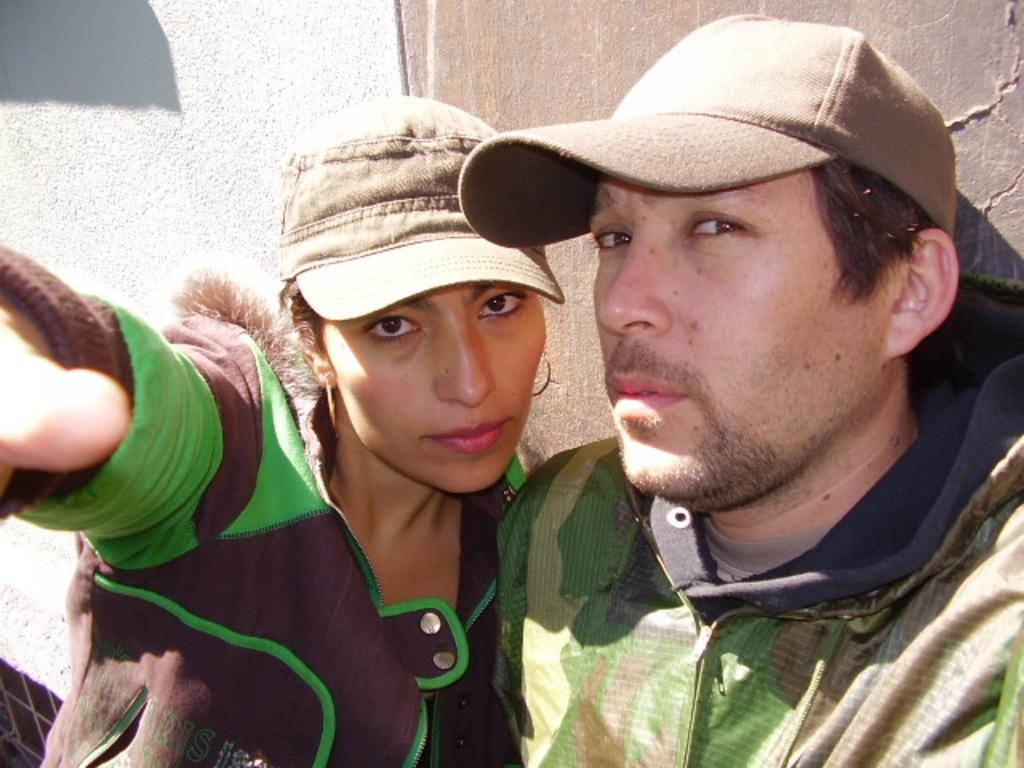Hat: (454, 6, 952, 251), (273, 88, 564, 302)
